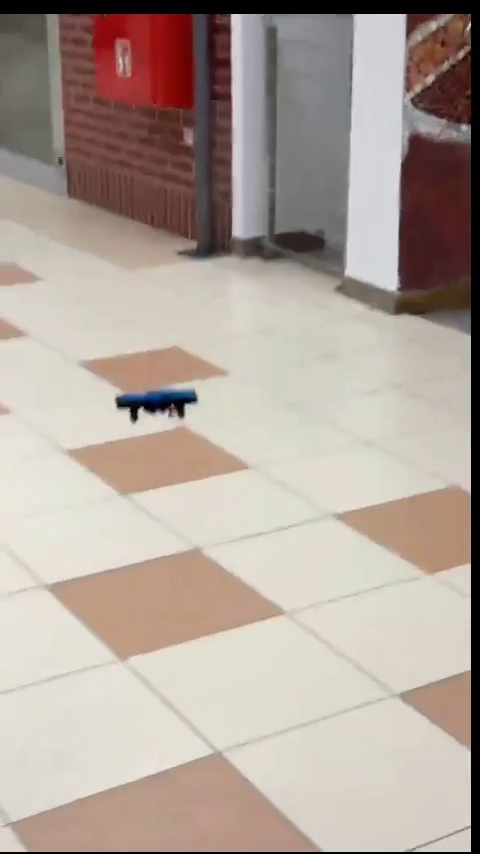drone: (117, 387, 201, 414)
